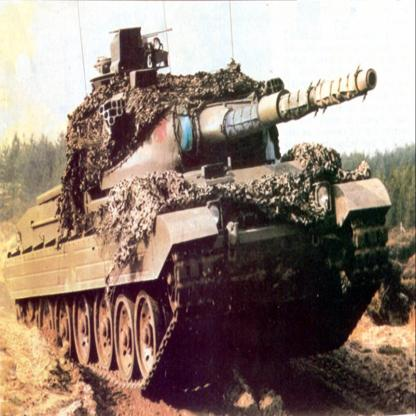Tank: (6, 44, 394, 394)
